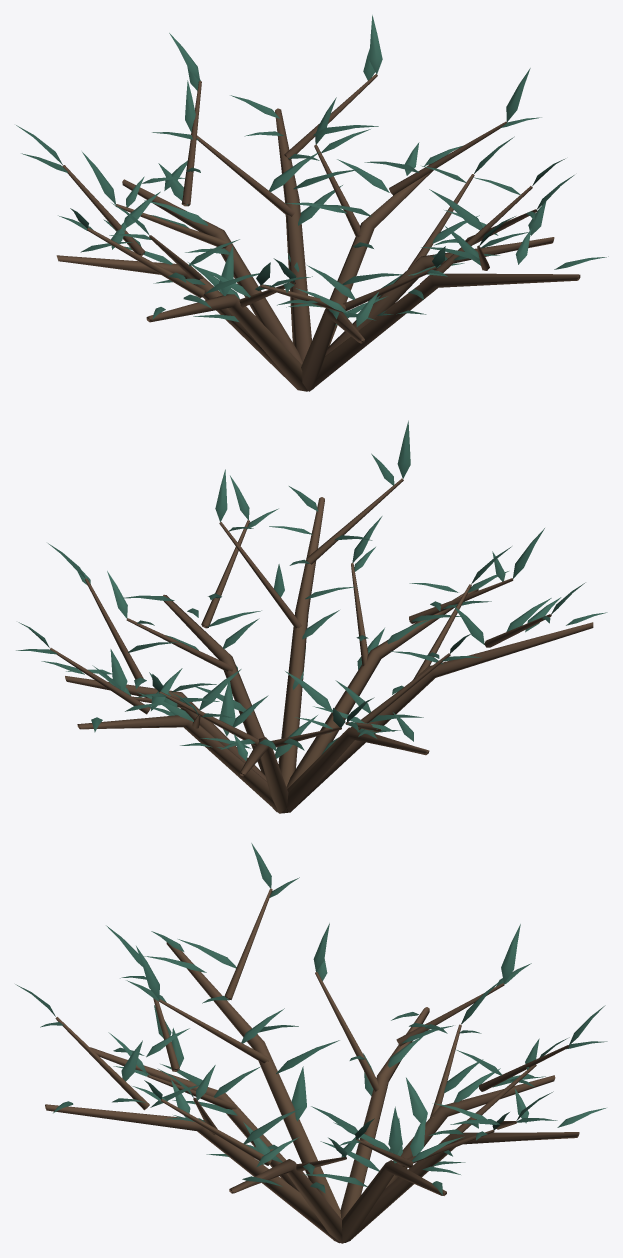
File: juniper_scrub.glb
3 renders of one model, top to bottom at view 1: azimuth 30°, elevation 25°; view 2: azimuth 150°, elevation 25°; view 3: azimuth 270°, elevation 25°, orthographic. The views are drawn at different scales.
Parts seen in each view (by area): view 1: juniper_scrub; view 2: juniper_scrub; view 3: juniper_scrub.
Boxes of the visible parts, x1,y1,x2,y2 form: juniper_scrub: (16, 15, 608, 391); juniper_scrub: (16, 420, 607, 813); juniper_scrub: (15, 843, 607, 1243).
Size of the model in its own units: 1.61 by 0.8545 by 1.68.
